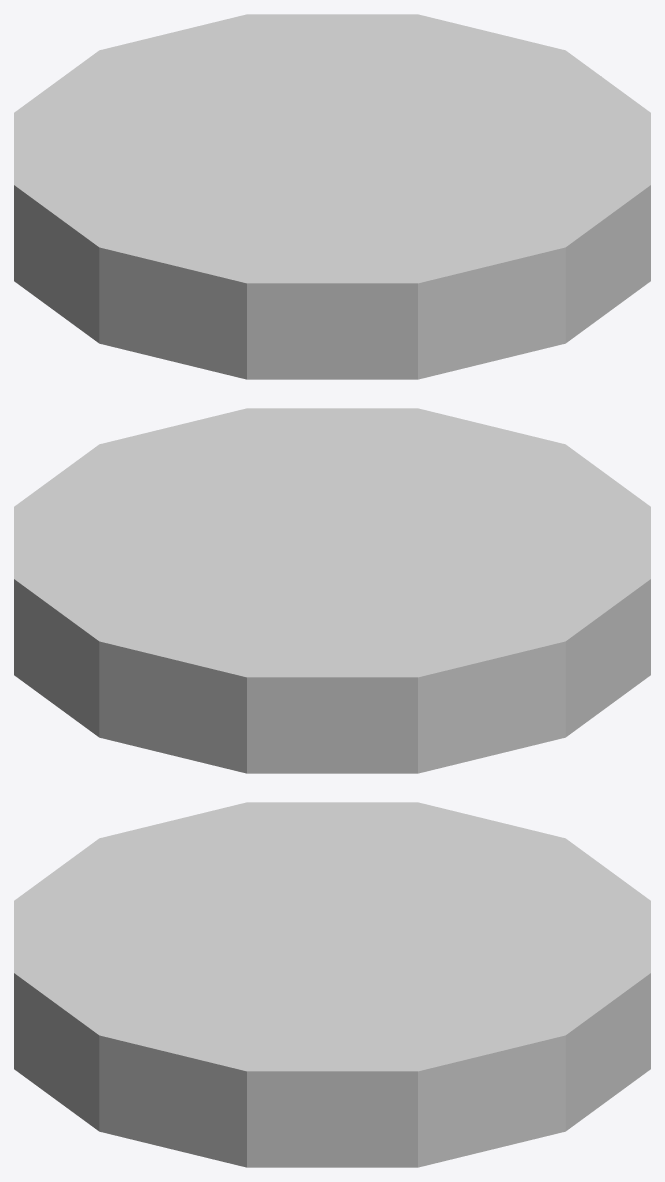
File: Light.fbx
3 renders of one model, top to bottom at view 1: azimuth 30°, elevation 25°; view 2: azimuth 150°, elevation 25°; view 3: azimuth 270°, elevation 25°, orthographic.
Visible parts, largest first — view 1: cylinder; view 2: cylinder; view 3: cylinder.
Boxes of the visible parts, left/top/right/bottom form: cylinder: left=14, top=14, right=650, bottom=379; cylinder: left=14, top=408, right=650, bottom=773; cylinder: left=14, top=802, right=650, bottom=1167.
Size of the model in its own units: 37.5 by 6.25 by 37.5.
1 material, 1 textured.
